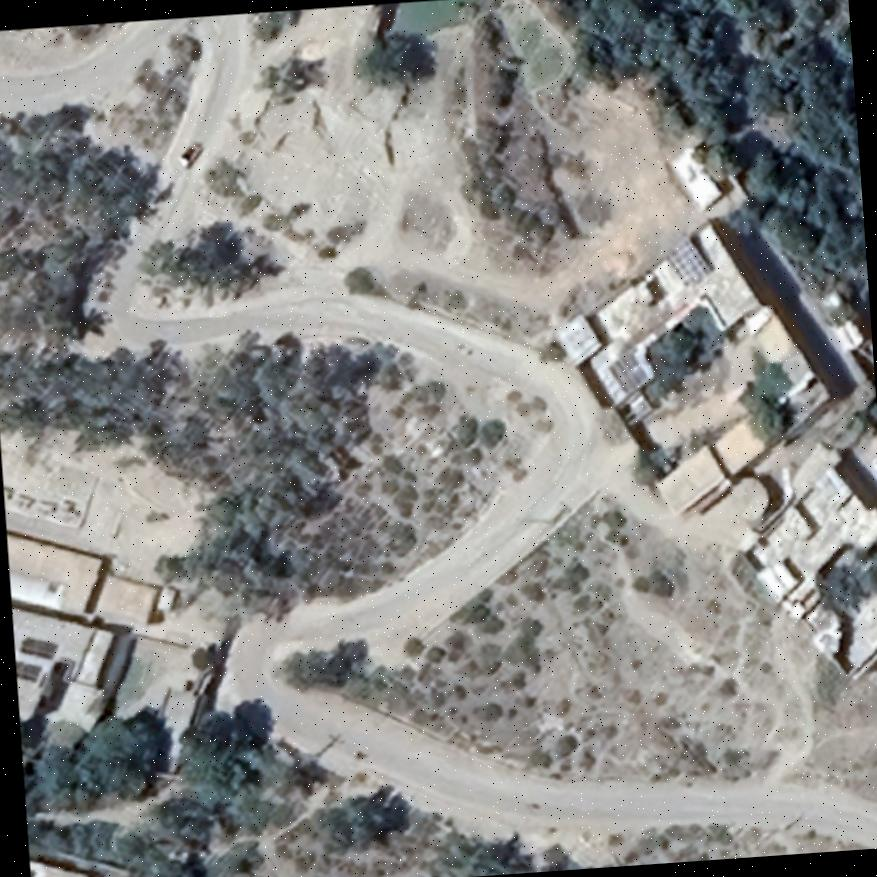Solarpanel: (664, 233, 712, 287), (17, 633, 58, 660), (14, 656, 42, 682)
